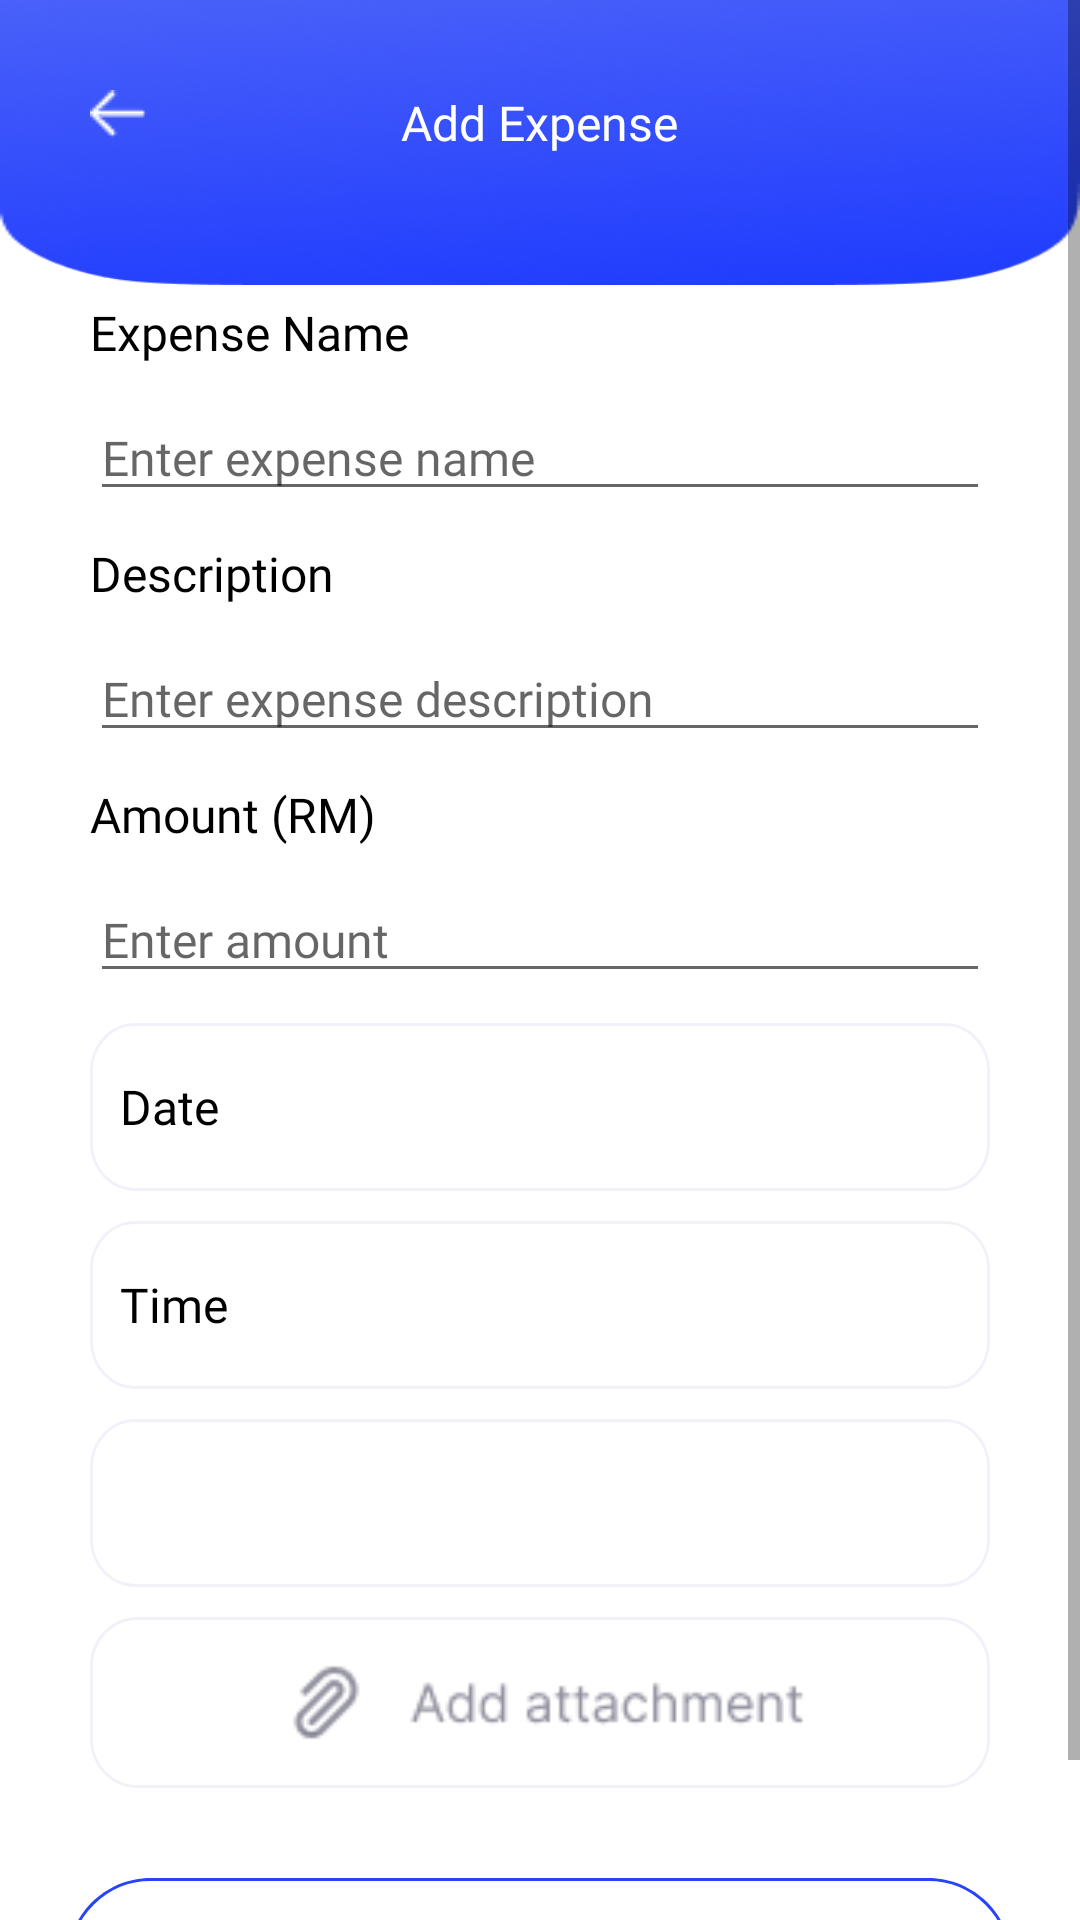

Locate icon controls on the screen. Image size 1080x1920, boxes as box=[x1, y1, x2, y2].
back: box=[90, 90, 145, 136]
